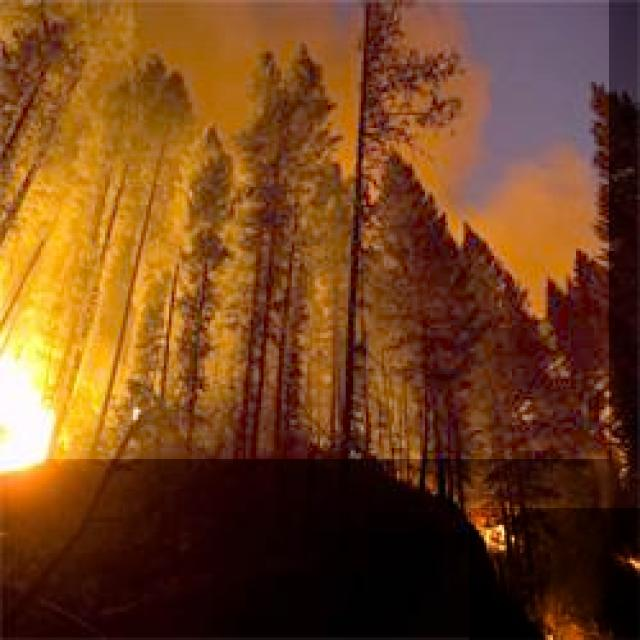Fire: (469, 508, 640, 640), (0, 352, 76, 477)
Smoke: (0, 0, 609, 459)
